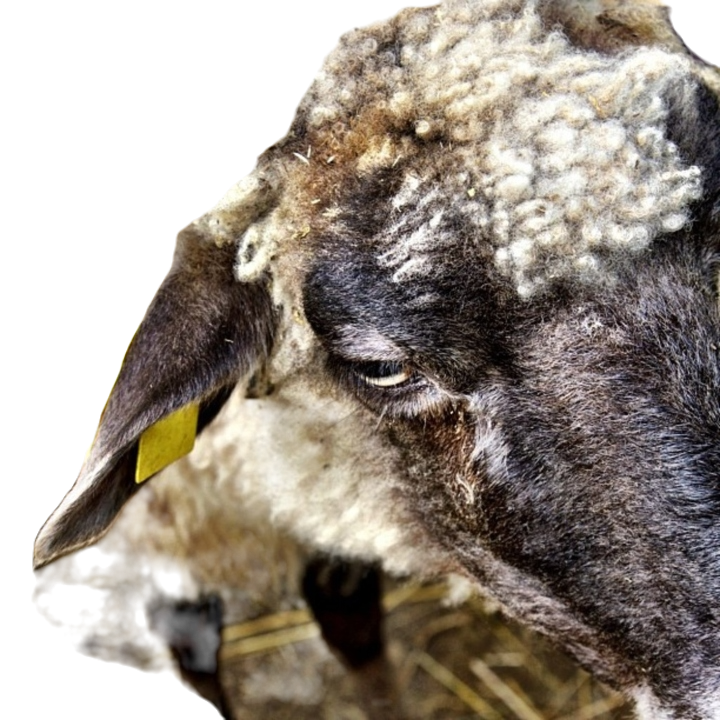Sheep: (32, 0, 719, 719)
